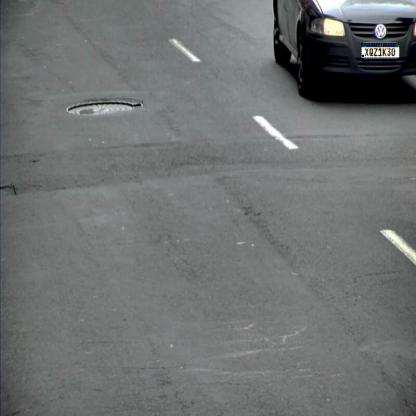PlacaM: (361, 43, 400, 58)
